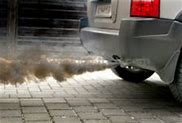smoke: (1, 42, 119, 86)
